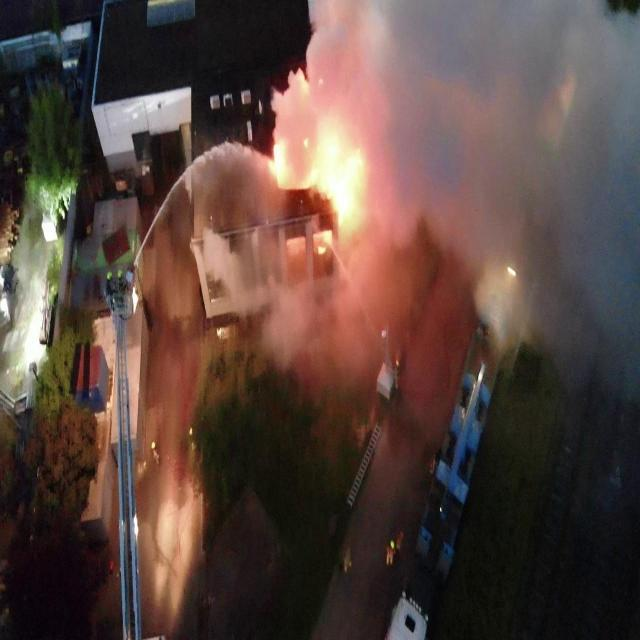Fire: (310, 144, 358, 226), (273, 144, 284, 178), (318, 246, 326, 254)
Smoke: (200, 0, 640, 394)
